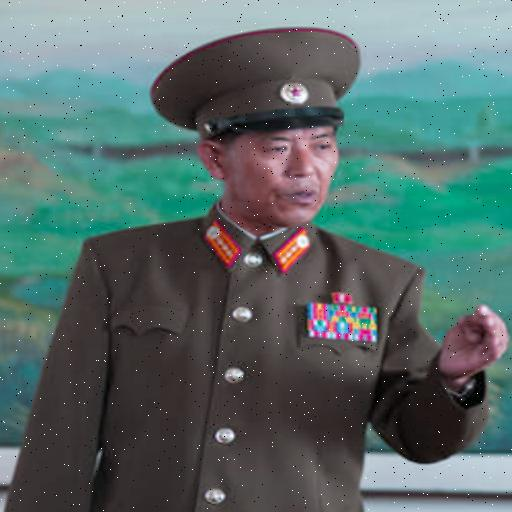north army: (55, 58, 512, 512)
